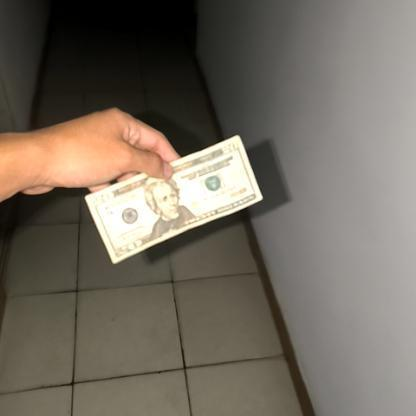twenty-front: (82, 128, 264, 266)
